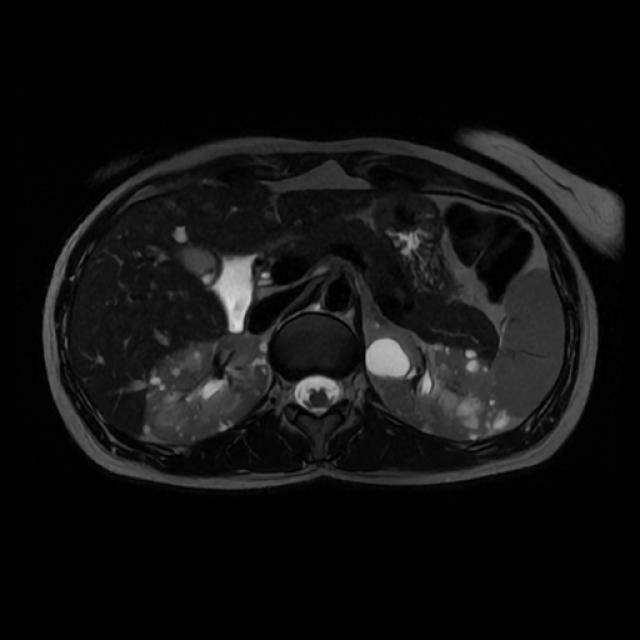sag: (142, 331, 268, 446)
sol: (364, 318, 512, 442)
